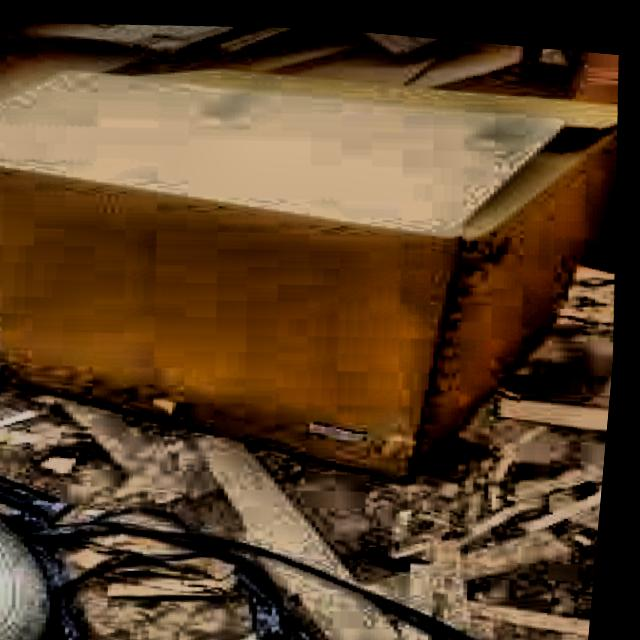Cardbox: (0, 10, 639, 526)
